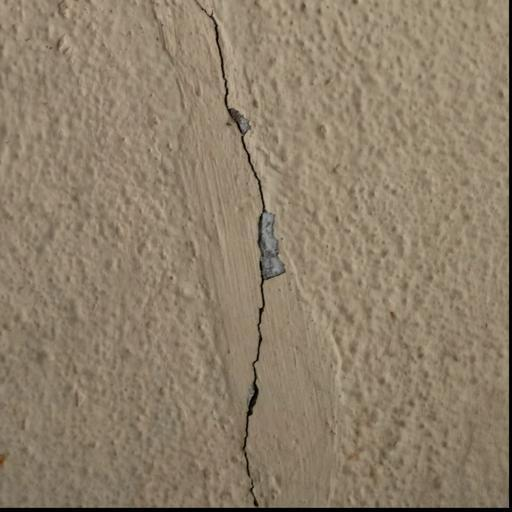minor_crack: (184, 1, 299, 510)
